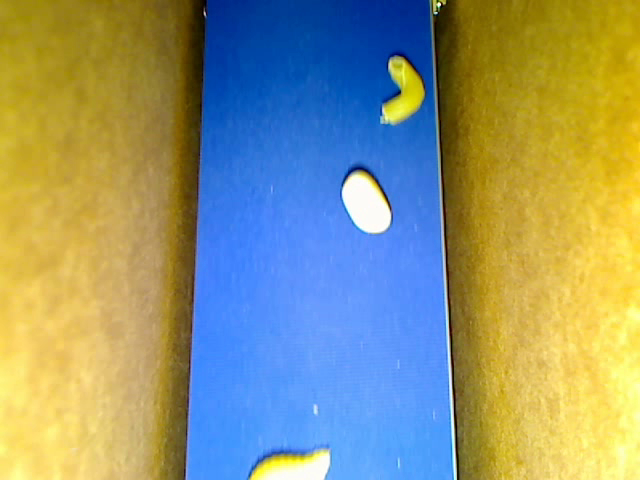elbow: (379, 54, 426, 125)
shell: (248, 448, 330, 479)
